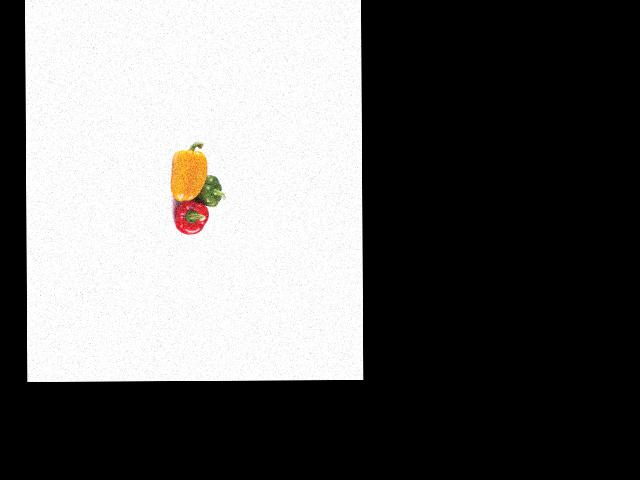bell_pepper: (193, 171, 226, 210)
